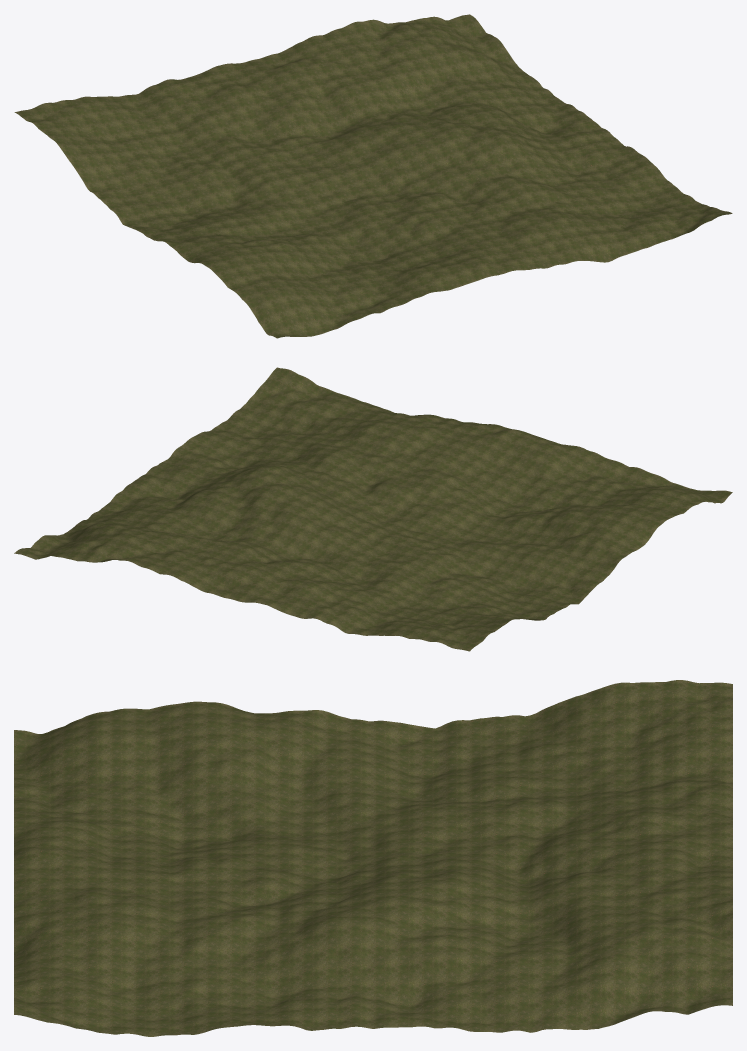
The model's file is grass.gltf.
The picture shows the model from 3 angles, top to bottom: view 1: azimuth 30°, elevation 25°; view 2: azimuth 150°, elevation 25°; view 3: azimuth 270°, elevation 25°; orthographic projection. The views are drawn at different scales.
Visible parts, largest first — view 1: Plane; view 2: Plane; view 3: Plane.
Part boxes in pixels (x1,y1,x2,y2): Plane: [14, 14, 732, 338]; Plane: [14, 367, 732, 651]; Plane: [14, 680, 732, 1036].
Bounding box in the file's own units: 60.02 × 5.92 × 60.02.
1 material, 1 textured.
